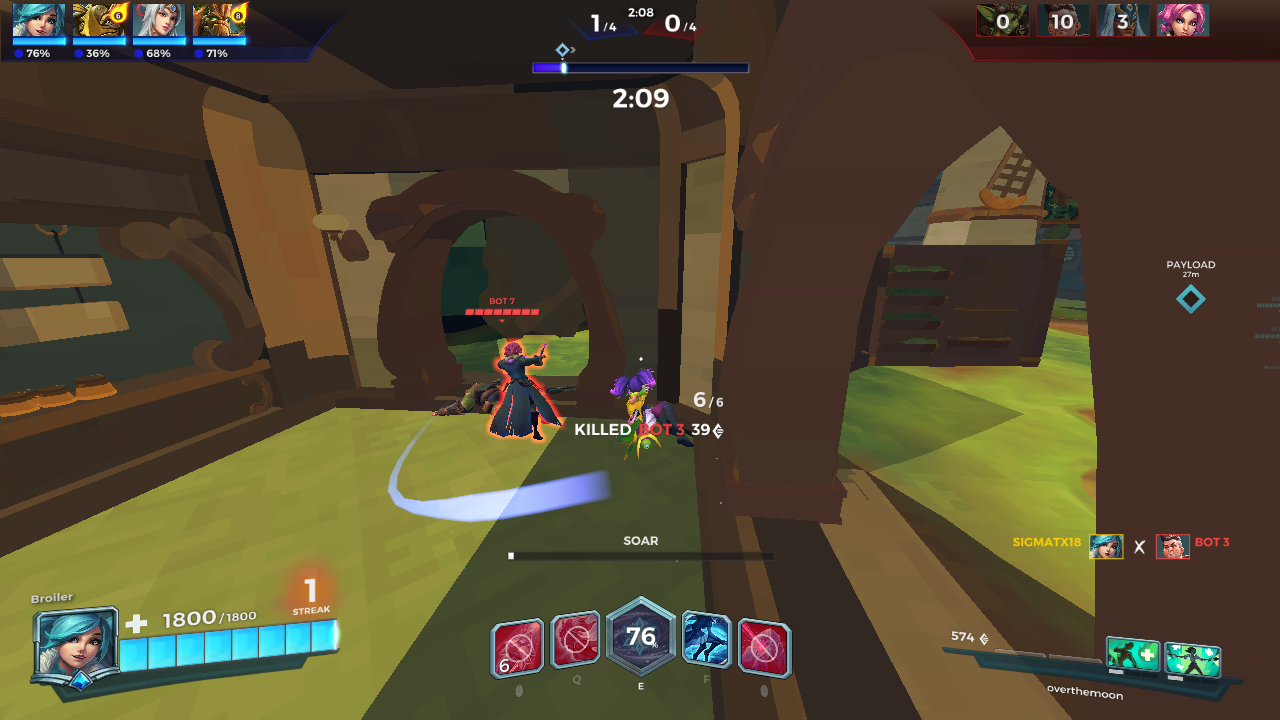model: (488, 337, 553, 439)
